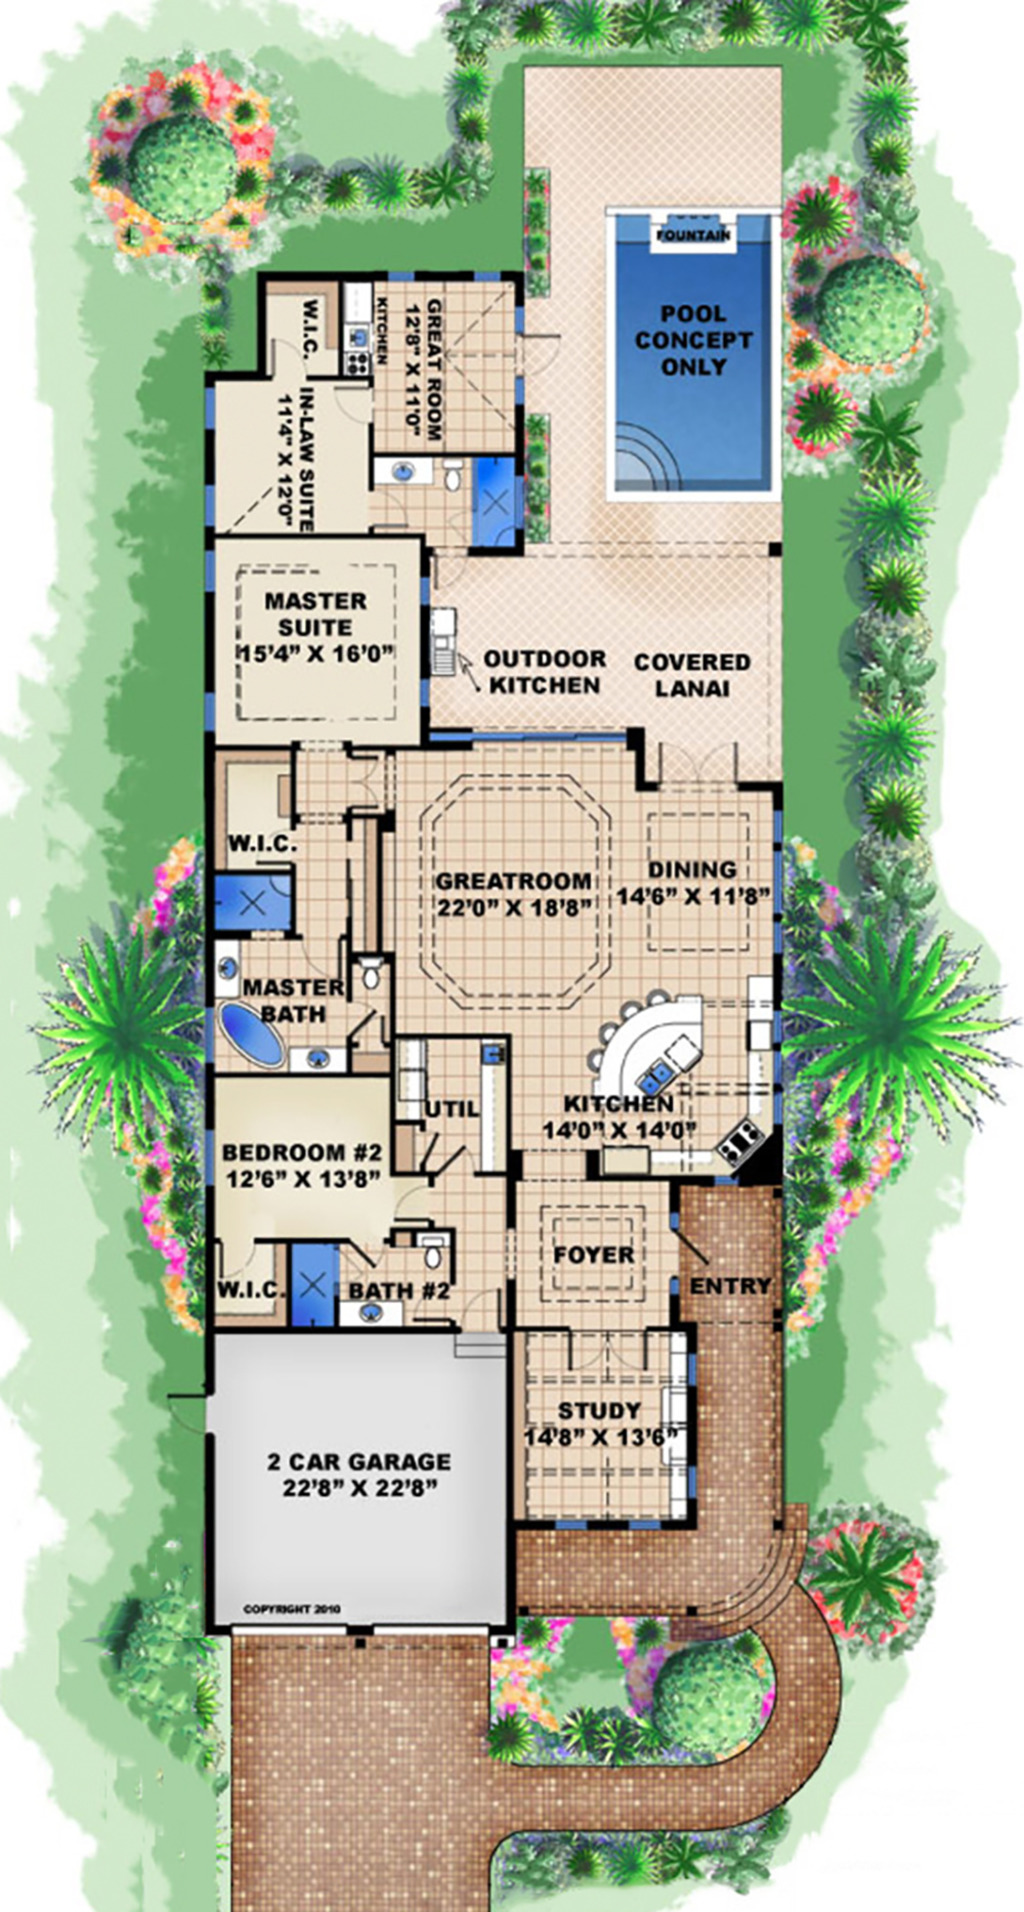door: (656, 741, 745, 794)
kitchen_bar: (588, 991, 717, 1094)
small_sink: (338, 1296, 401, 1327)
tub: (209, 998, 284, 1077)
windows: (190, 382, 225, 535)
